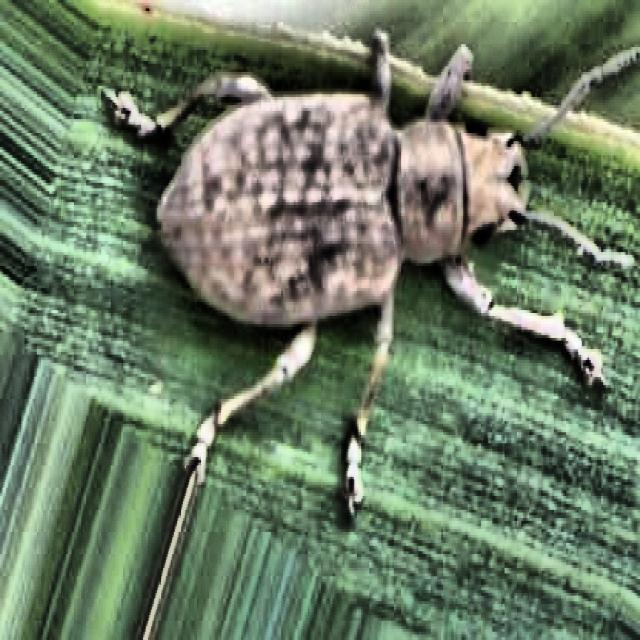Stink bug: (138, 88, 568, 394)
